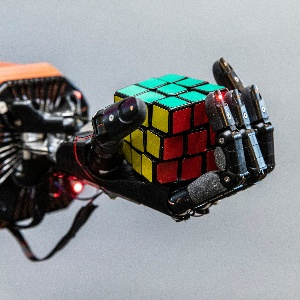cube: (112, 73, 228, 184)
